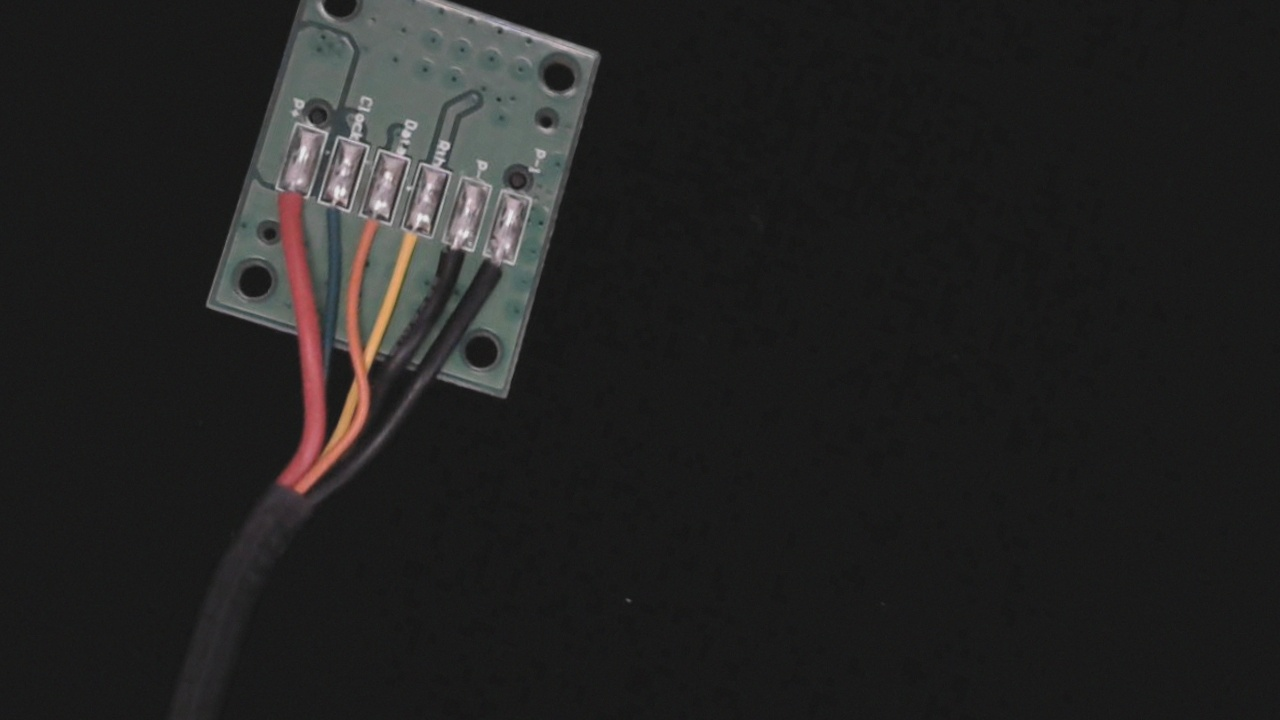Black: (426, 223, 477, 304)
Black1: (468, 236, 520, 308)
Green: (303, 181, 354, 257)
Orange: (344, 196, 395, 270)
Red: (258, 167, 312, 244)
Yellow: (382, 207, 438, 291)
